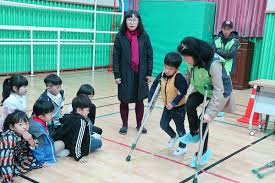crutches: (178, 36, 231, 183), (125, 51, 188, 163)
